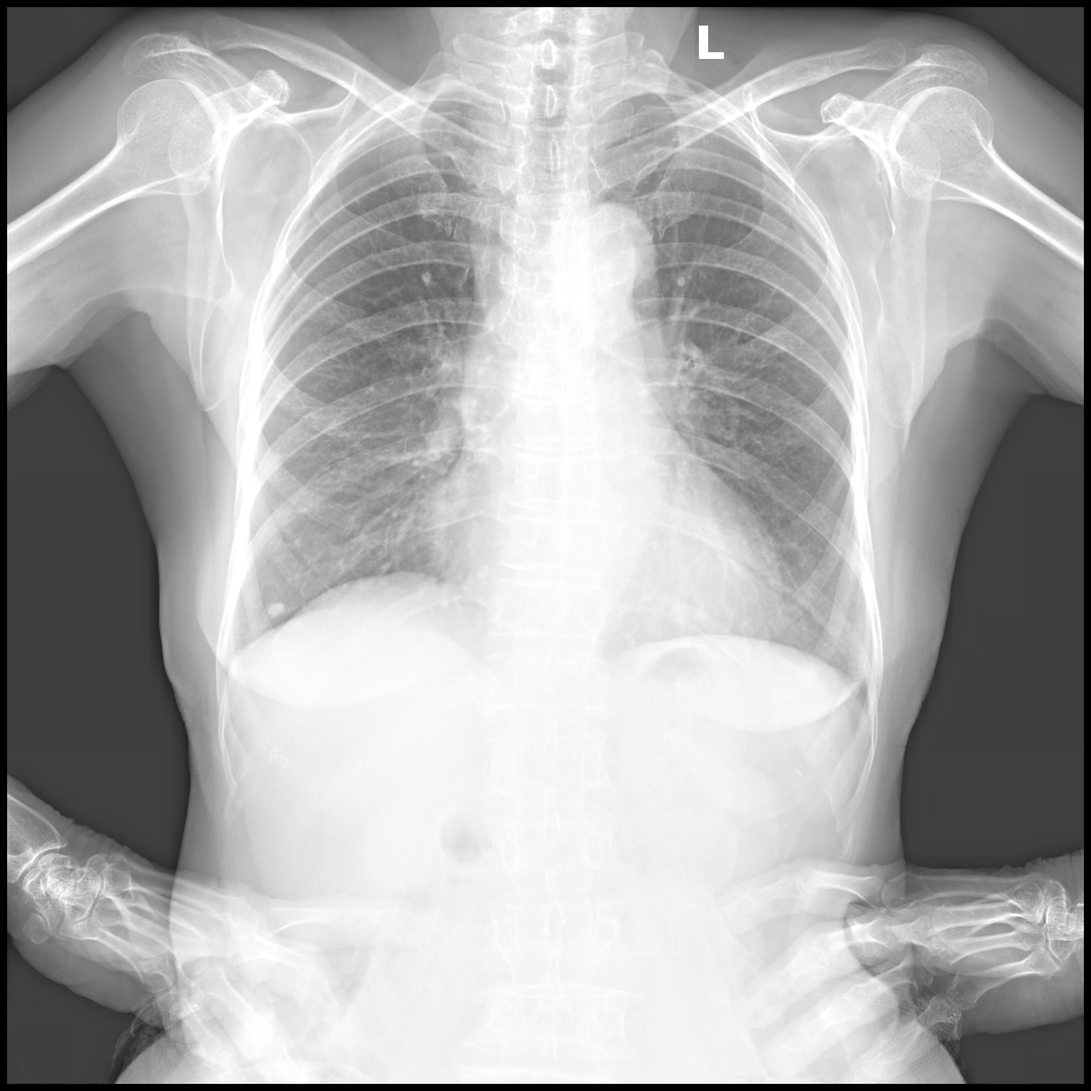Aortic enlargement: (550, 199, 660, 320)
Cardiomegaly: (420, 505, 797, 675)
